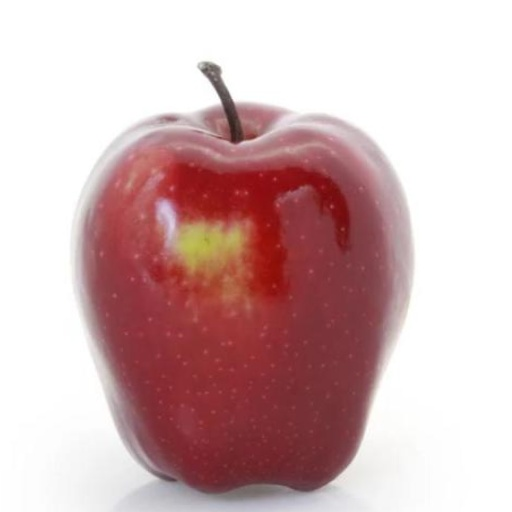fruit: (75, 63, 412, 492)
